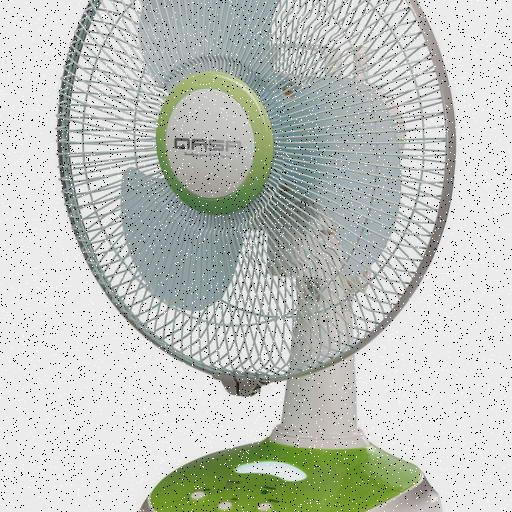Fan: (56, 0, 456, 384)
